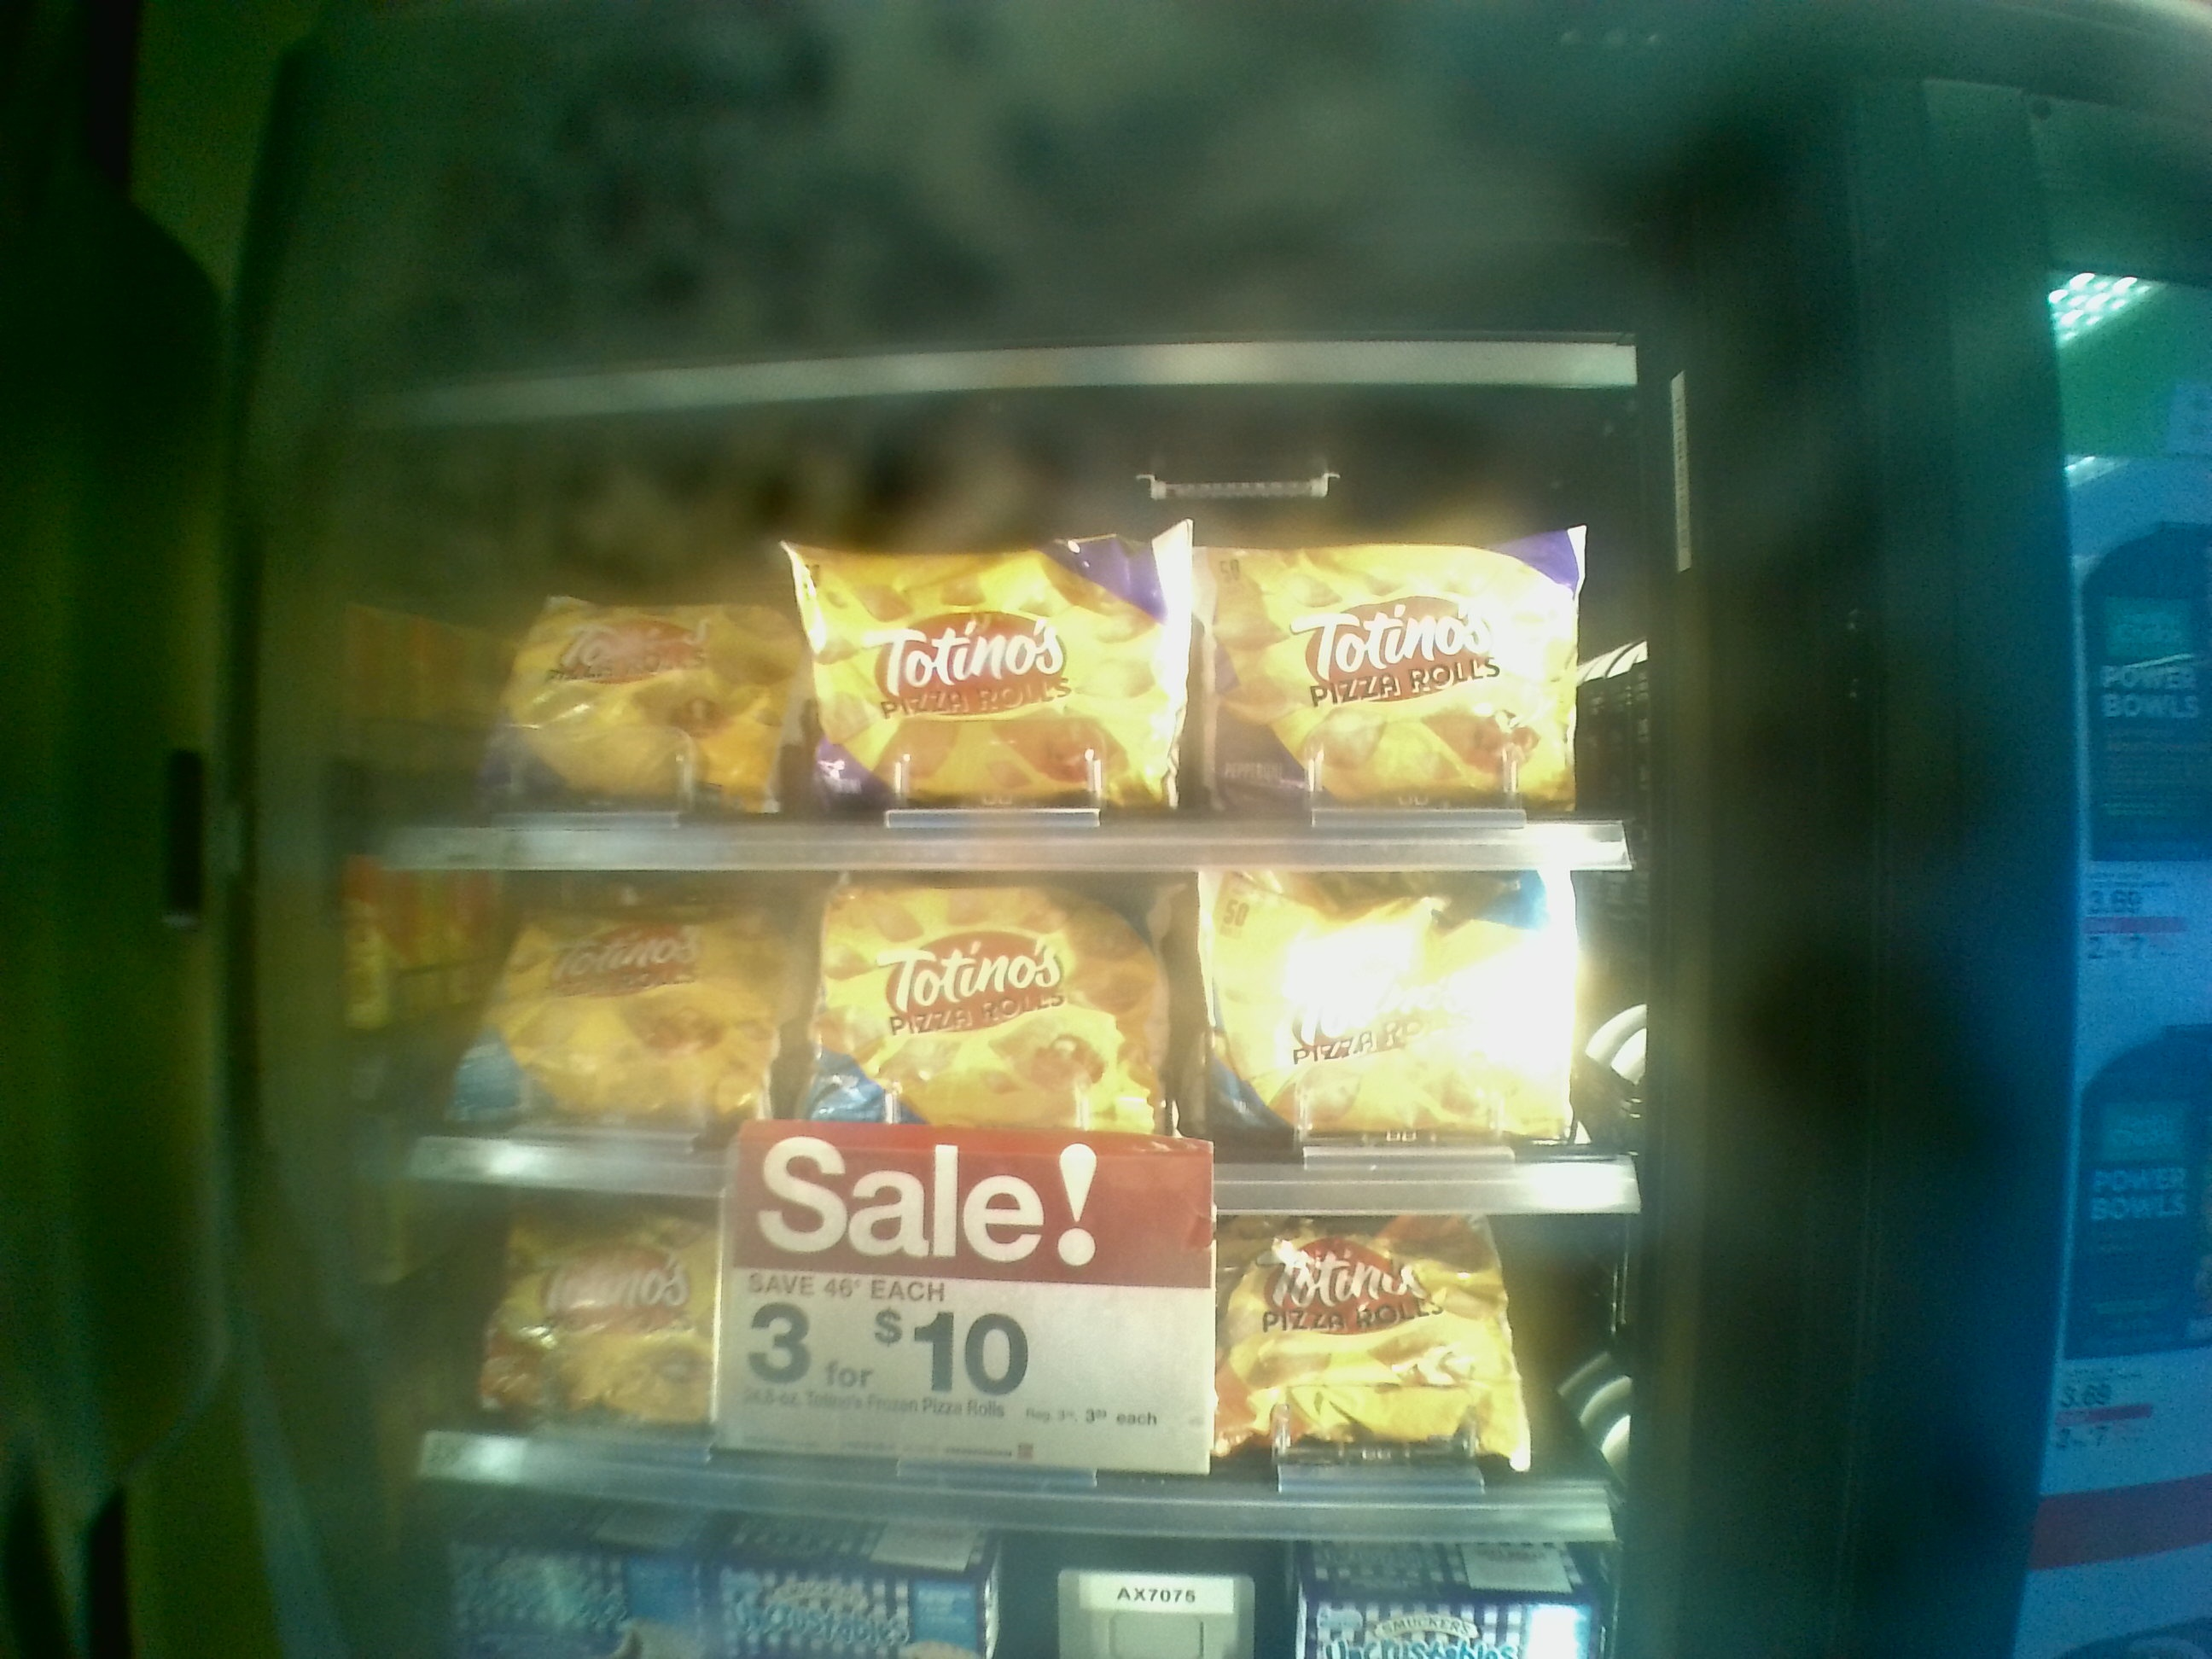shelf: (397, 1150, 1599, 1540), (380, 843, 1608, 1213)
